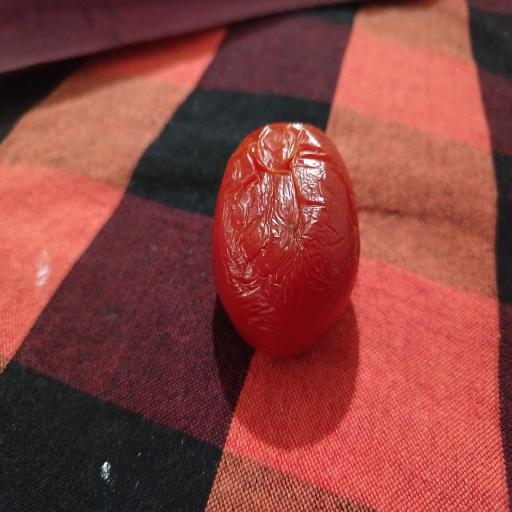spoiled: (212, 123, 359, 355)
